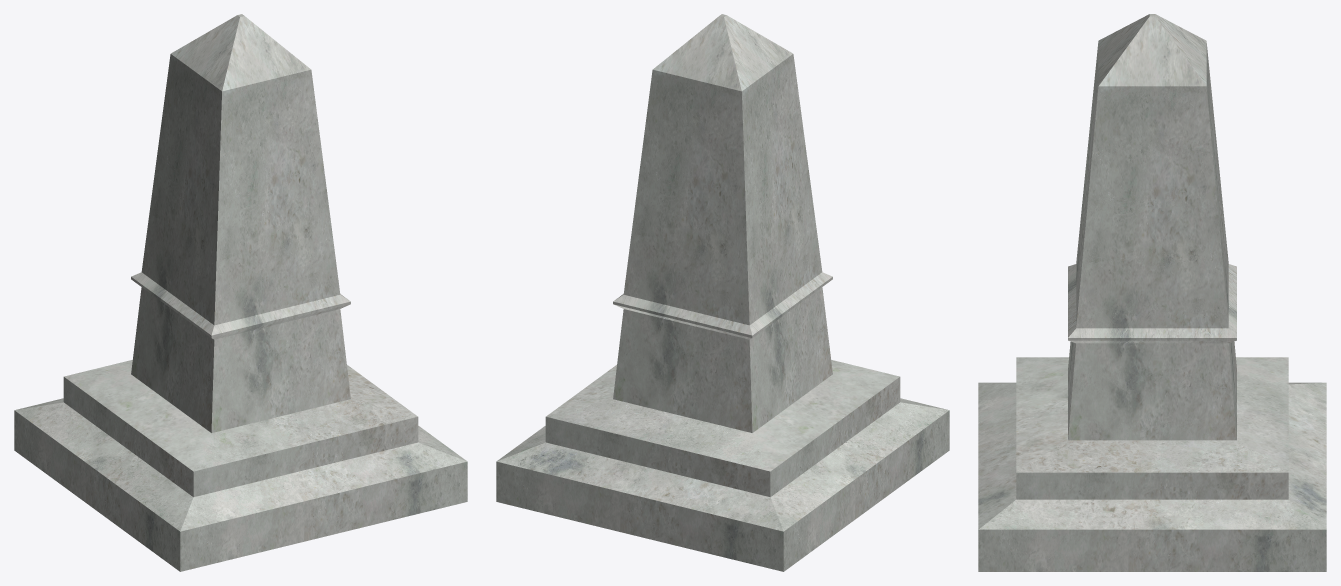
File: Monolith.FBX
The picture shows the model from 3 angles, left to right: view 1: azimuth 30°, elevation 25°; view 2: azimuth 150°, elevation 25°; view 3: azimuth 270°, elevation 25°; orthographic projection. The views are drawn at different scales.
Parts seen in each view (by area): view 1: monolith; view 2: monolith; view 3: monolith.
Boxes of the visible parts, left/top/right/bottom form: monolith: left=14, top=14, right=467, bottom=571; monolith: left=496, top=14, right=949, bottom=571; monolith: left=978, top=14, right=1326, bottom=571.
Size of the model in its own units: 11 by 16.85 by 11.
1 material, 1 textured.
